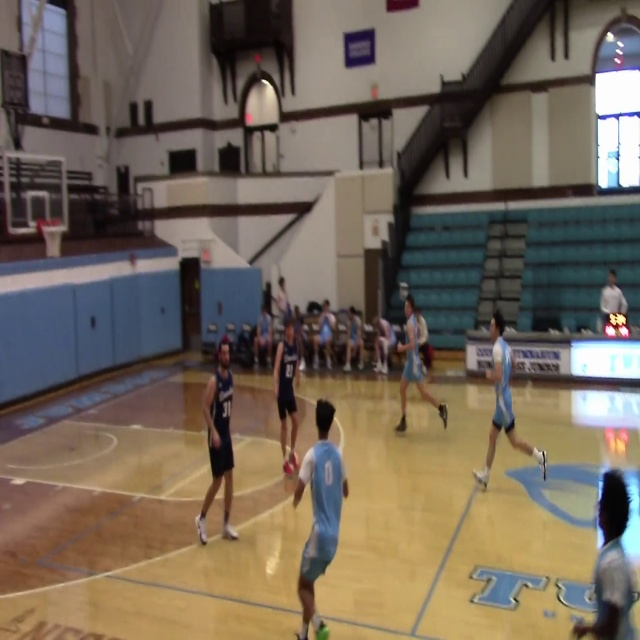Basketball: (283, 451, 299, 475), (283, 461, 294, 474)
